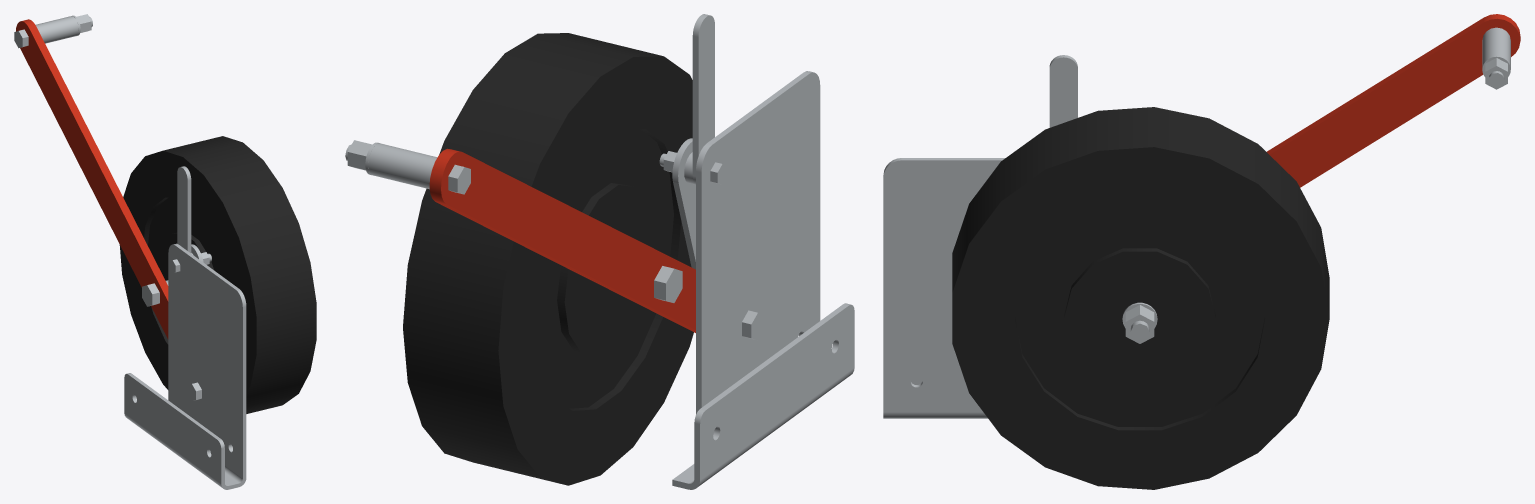
The picture shows the model from 3 angles, left to right: view 1: azimuth 30°, elevation 25°; view 2: azimuth 150°, elevation 25°; view 3: azimuth 270°, elevation 25°; orthographic projection. The views are drawn at different scales.
Parts seen in each view (by area): view 1: b7, b2, b5, b25, b19, b11; view 2: b7, b2, b5, b25, b19, b27, b11, b17, b29; view 3: b7, b2, b5, b25, b19, b15.
Part boxes in pixels (x1,y1,x2,y2): b7: [119, 136, 316, 413]; b2: [124, 243, 246, 489]; b5: [16, 19, 168, 339]; b25: [177, 166, 191, 253]; b19: [35, 16, 78, 43]; b11: [142, 283, 159, 306]; b7: [403, 33, 693, 485]; b2: [672, 71, 854, 489]; b5: [429, 148, 695, 332]; b25: [692, 14, 714, 184]; b19: [368, 143, 437, 189]; b27: [672, 138, 695, 269]; b11: [654, 266, 682, 302]; b17: [345, 144, 470, 194]; b29: [742, 310, 764, 340]; b7: [952, 107, 1329, 489]; b2: [883, 158, 1005, 418]; b5: [1267, 14, 1520, 187]; b25: [1049, 55, 1077, 127]; b19: [1482, 27, 1510, 67]; b15: [1125, 305, 1154, 343].
Bounding box in the file's own units: 235 × 481 × 672.
